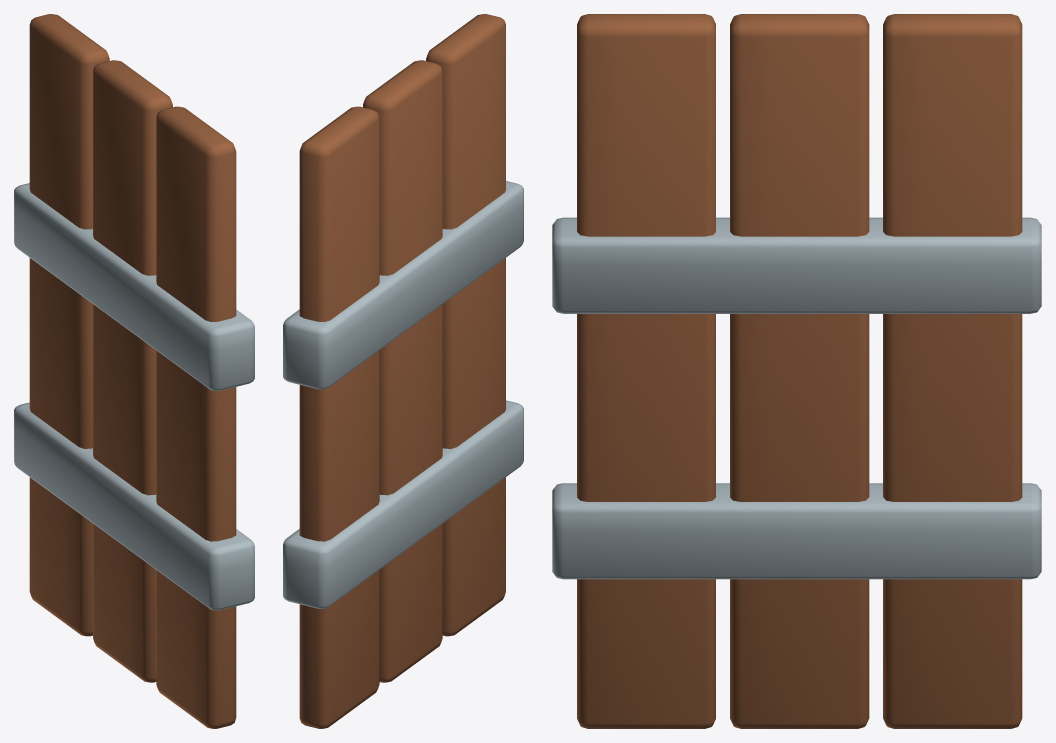
The model's file is door_wood.glb.
The picture shows the model from 3 angles, left to right: view 1: azimuth 30°, elevation 25°; view 2: azimuth 150°, elevation 25°; view 3: azimuth 270°, elevation 25°; orthographic projection. The views are drawn at different scales.
Parts seen in each view (by area): view 1: door_wood; view 2: door_wood; view 3: door_wood.
Boxes of the visible parts, box(x1,y1,x2,y2) form: door_wood: box(14, 14, 254, 728); door_wood: box(283, 14, 523, 728); door_wood: box(552, 14, 1041, 728).
Bounding box in the file's own units: 0.662 × 8.06 × 5.07.
